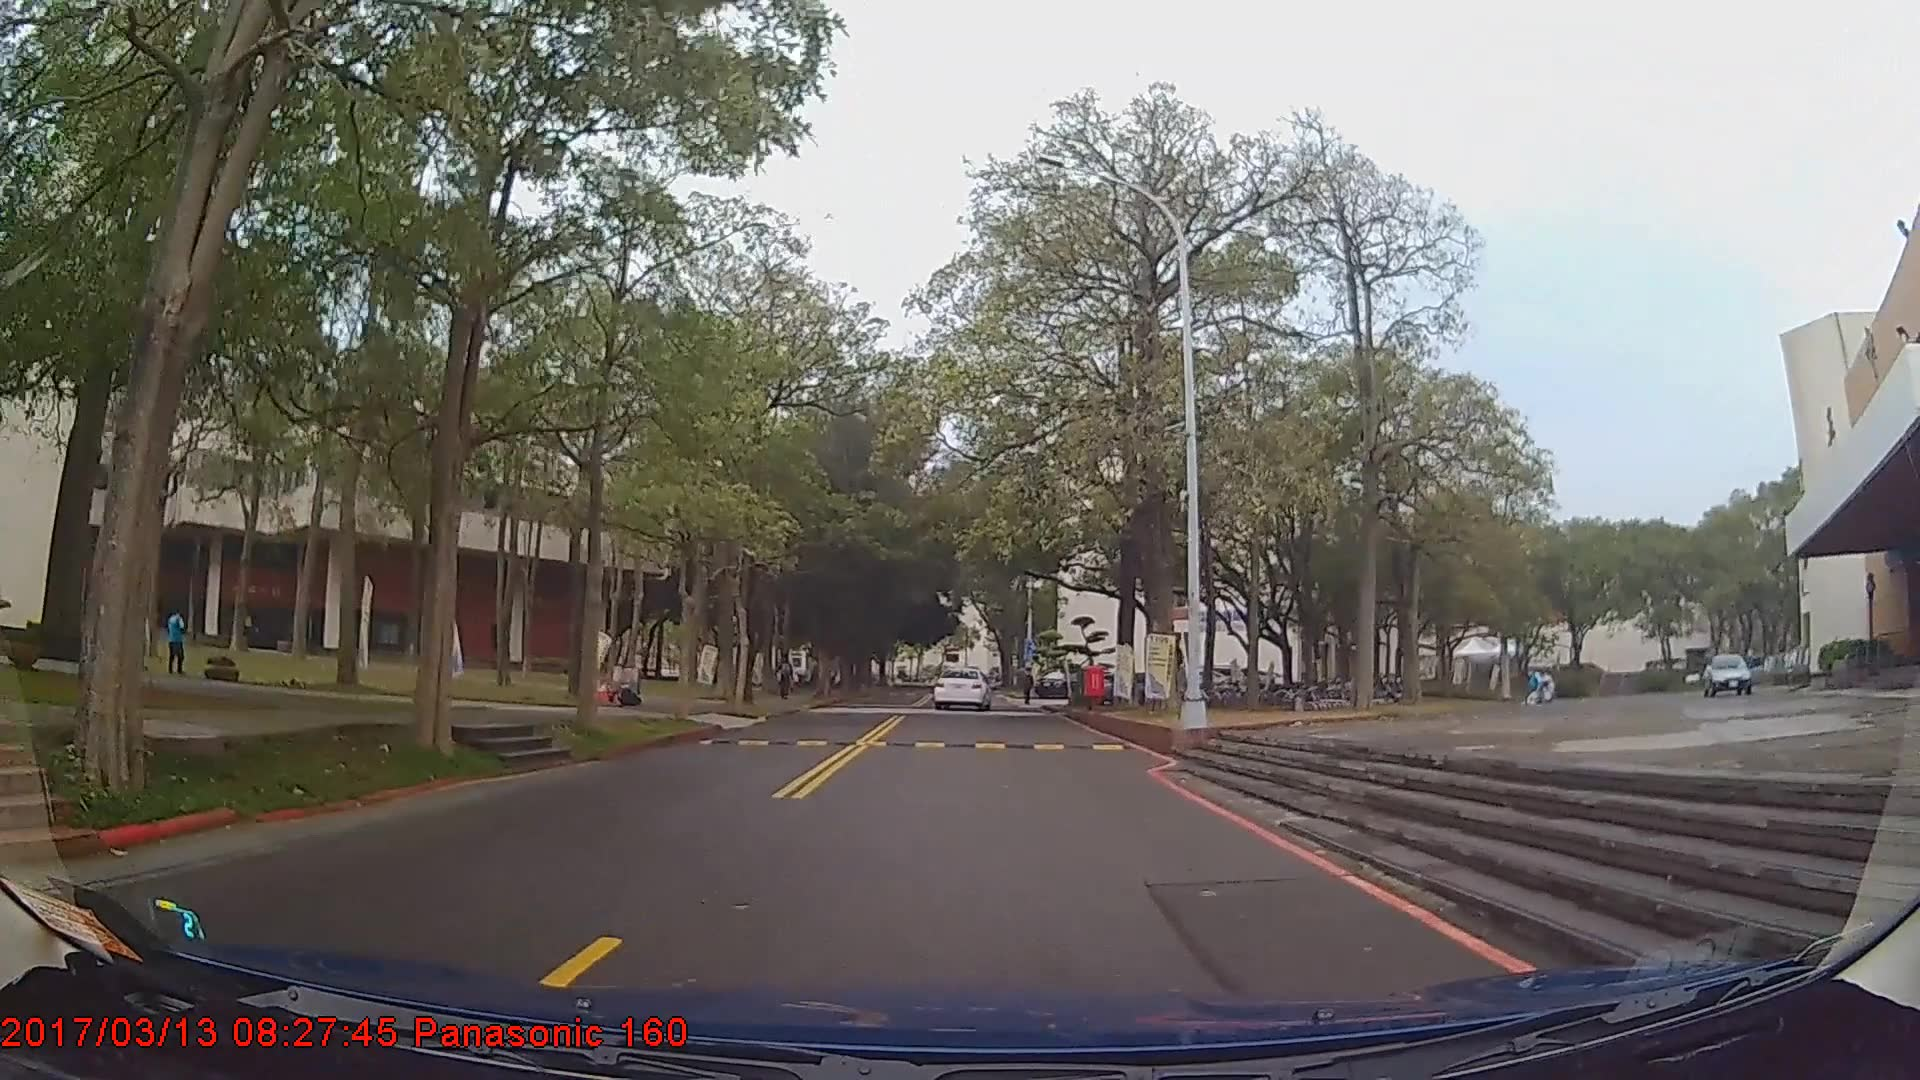vehicle: (1697, 650, 1767, 699), (931, 667, 992, 711)
